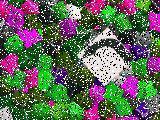Left: (77, 28, 135, 86)
